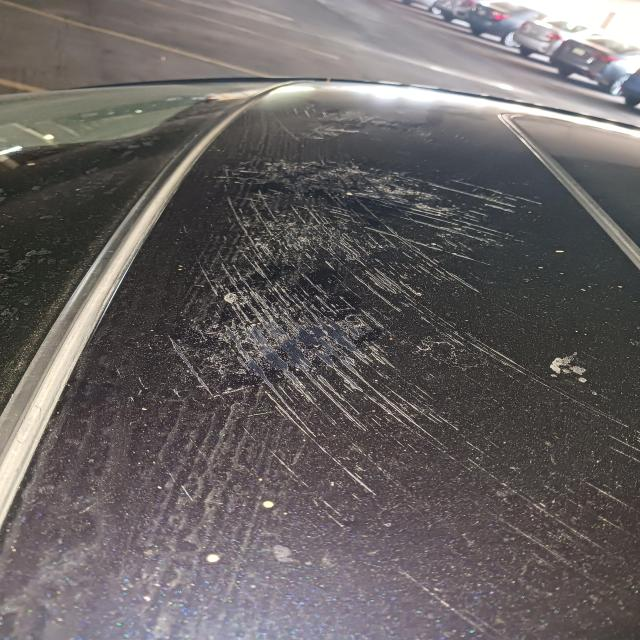Scratch: (399, 570, 495, 632), (170, 337, 213, 397), (585, 482, 639, 513)
